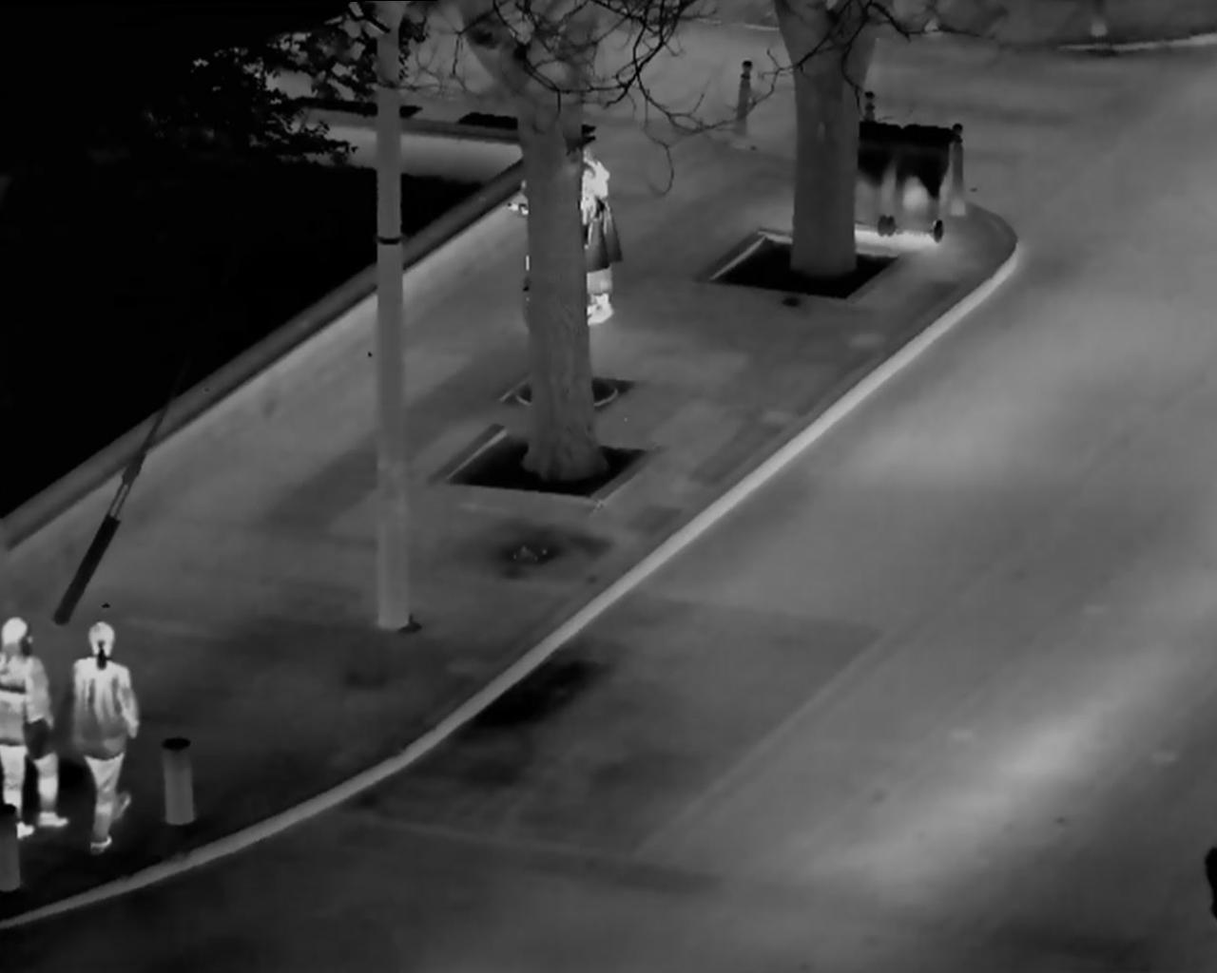person: (63, 619, 143, 851), (4, 608, 63, 834), (578, 144, 638, 340)
